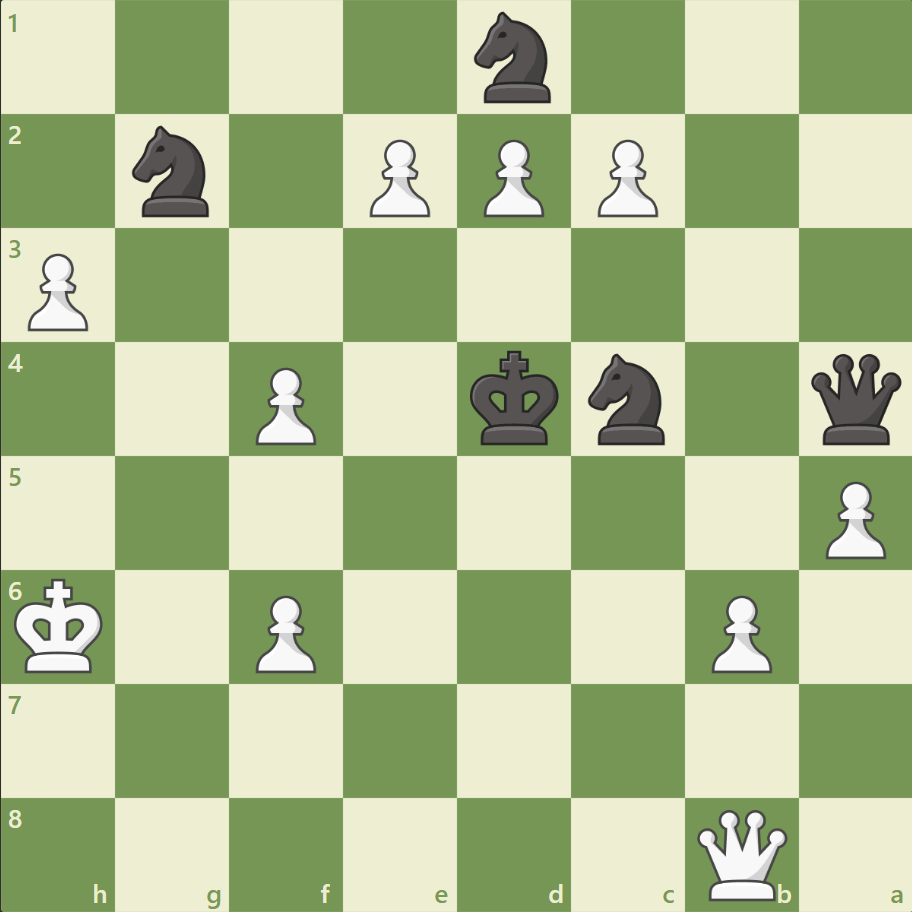K: (11, 571, 111, 679)
P: (701, 586, 776, 677), (247, 586, 322, 677), (247, 359, 322, 450), (20, 246, 95, 337), (474, 132, 549, 223), (815, 473, 889, 564), (588, 132, 662, 223), (361, 132, 435, 223)
Q: (691, 804, 790, 903)
k: (465, 344, 565, 452)
n: (124, 121, 222, 223), (465, 7, 562, 110), (579, 348, 676, 450)
q: (805, 349, 904, 449)
